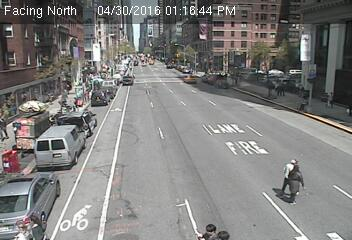neg: (48, 146, 78, 186), (205, 108, 231, 143), (176, 135, 200, 167), (101, 109, 125, 140), (232, 80, 254, 109), (114, 168, 135, 195), (261, 107, 281, 134), (92, 71, 112, 98), (127, 67, 147, 93), (293, 36, 313, 62), (183, 64, 201, 88), (62, 101, 78, 122), (141, 31, 154, 48), (216, 35, 224, 46)
pos: (287, 168, 311, 200), (278, 155, 297, 181), (328, 92, 338, 105)
